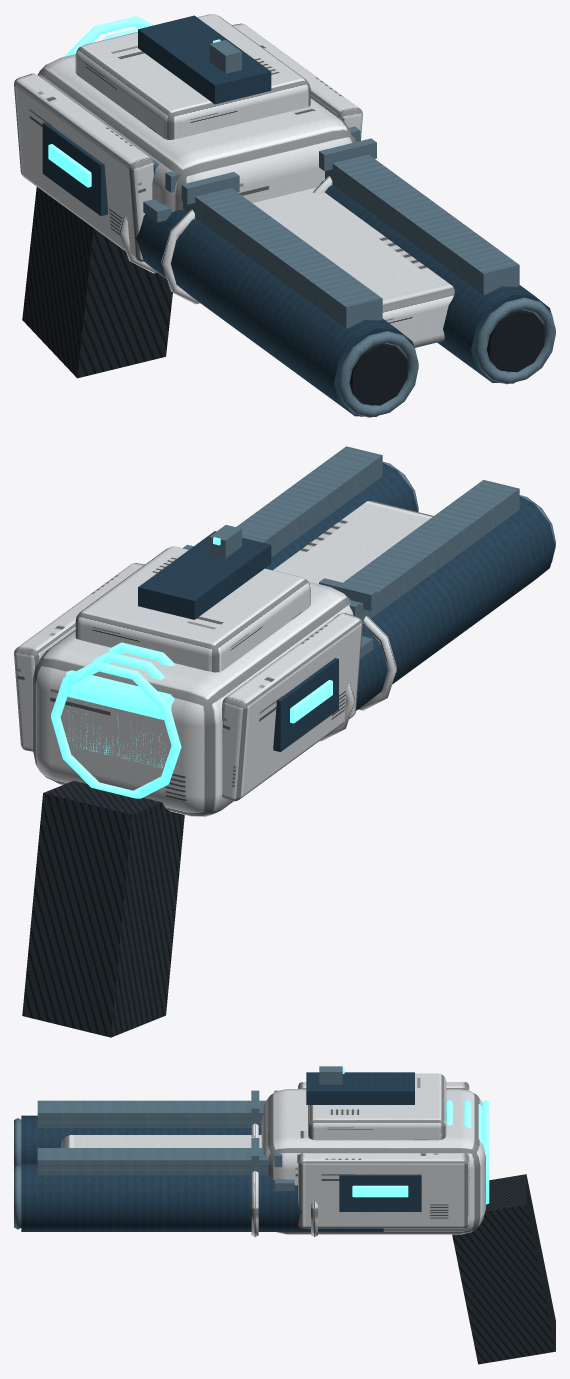
Rendered from double-barrel-shotgun-lod1.glb.
3 views of the same model, one above another, from view 1: azimuth 30°, elevation 25°; view 2: azimuth 150°, elevation 25°; view 3: azimuth 270°, elevation 25° (orthographic). The views are drawn at different scales.
Parts seen in each view (by area): view 1: weapon:grip, weapon:barrel-shroud:-1, weapon:receiver, weapon:receiver:top-armour, weapon:bridge, weapon:side-plate:-1, weapon:barrel-rail:-1, weapon:barrel-rail:1, weapon:sight:base, weapon:barrel-shroud:1, weapon:service-port:-1, weapon:muzzle-opening:-1 (+10 smaller); view 2: weapon:grip, weapon:receiver, weapon:barrel-shroud:-1, weapon:receiver:top-armour, weapon:side-plate:-1, weapon:barrel-rail:-1, weapon:barrel-rail:1, weapon:sight:base, weapon:bridge, weapon:energy:coil:0, weapon:side-plate:1, weapon:barrel-shroud:1 (+7 smaller); view 3: weapon:barrel-shroud:1, weapon:grip, weapon:side-plate:1, weapon:receiver, weapon:barrel-rail:1, weapon:barrel-rail:-1, weapon:receiver:top-armour, weapon:sight:base, weapon:barrel-shroud:-1, weapon:service-port:1, weapon:bridge, weapon:charge-window:1 (+5 smaller).
Boxes of the visible parts, x1,y1,x2,y2 form: weapon:grip: (22, 187, 172, 378); weapon:barrel-shroud:-1: (135, 210, 418, 416); weapon:receiver: (38, 54, 355, 278); weapon:receiver:top-armour: (75, 14, 310, 139); weapon:bridge: (252, 187, 454, 347); weapon:side-plate:-1: (14, 73, 153, 261); weapon:barrel-rail:-1: (183, 188, 382, 328); weapon:barrel-rail:1: (325, 154, 519, 294); weapon:sight:base: (138, 15, 271, 104); weapon:barrel-shroud:1: (320, 181, 555, 383); weapon:service-port:-1: (42, 122, 107, 215); weapon:muzzle-opening:-1: (349, 343, 407, 405); weapon:grip: (22, 780, 184, 1037); weapon:receiver: (32, 581, 353, 816); weapon:barrel-shroud:-1: (356, 496, 555, 710); weapon:receiver:top-armour: (75, 546, 310, 672); weapon:side-plate:-1: (222, 613, 362, 801); weapon:barrel-rail:-1: (343, 480, 519, 624); weapon:barrel-rail:1: (236, 446, 382, 557); weapon:sight:base: (138, 531, 271, 619); weapon:bridge: (273, 500, 433, 583); weapon:energy:coil:0: (51, 661, 181, 798); weapon:side-plate:1: (14, 563, 144, 751); weapon:barrel-shroud:1: (265, 463, 417, 570); weapon:barrel-shroud:1: (21, 1163, 383, 1231); weapon:grip: (452, 1174, 555, 1364); weapon:side-plate:1: (298, 1153, 469, 1228); weapon:receiver: (261, 1089, 485, 1234); weapon:barrel-rail:1: (37, 1148, 269, 1175); weapon:barrel-rail:-1: (37, 1100, 265, 1127); weapon:receiver:top-armour: (308, 1073, 446, 1140); weapon:sight:base: (306, 1072, 414, 1104); weapon:barrel-shroud:-1: (21, 1115, 261, 1162); weapon:service-port:1: (339, 1174, 421, 1211); weapon:bridge: (61, 1135, 261, 1147); weapon:charge-window:1: (352, 1185, 408, 1197).
Bounding box in the file's own units: 0.4392 × 0.6768 × 1.18.
Materials: 6 (4 with a texture image).
